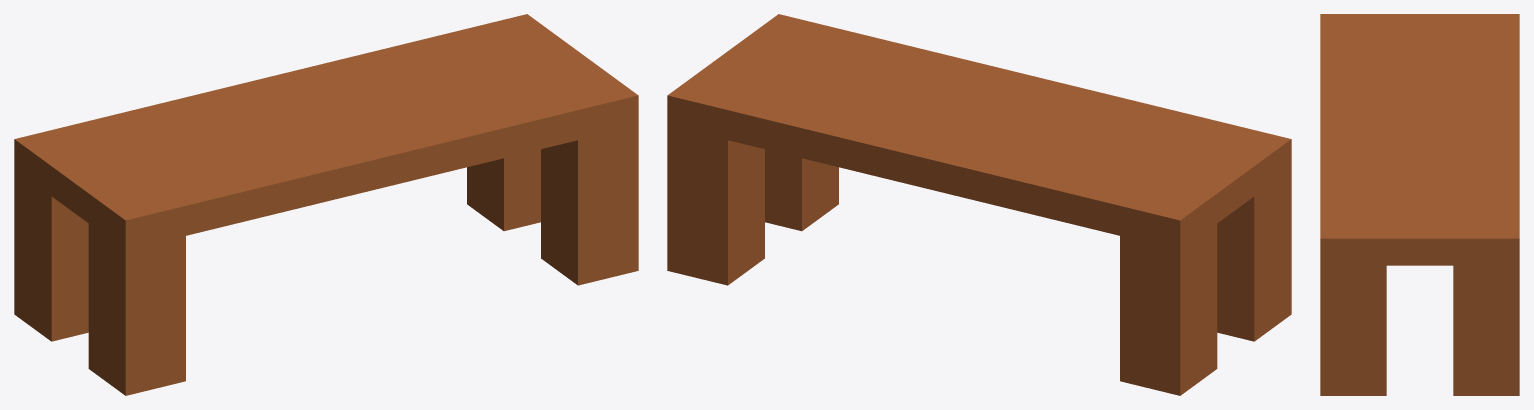
The model's file is table.glb.
3 views of the same model, side by side, from view 1: azimuth 30°, elevation 25°; view 2: azimuth 150°, elevation 25°; view 3: azimuth 270°, elevation 25° (orthographic). The views are drawn at different scales.
Parts seen in each view (by area): view 1: table; view 2: table; view 3: table.
Boxes of the visible parts, box(x1,y1,x2,y2) form: table: box(14, 14, 638, 395); table: box(667, 14, 1291, 395); table: box(1320, 14, 1519, 395).
Size of the model in its own units: 2.75 by 0.8986 by 1.03.
